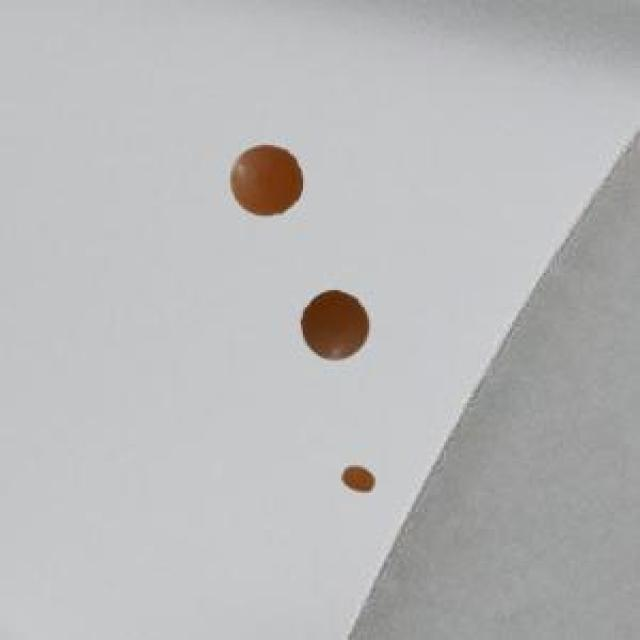Bactidol: (225, 134, 313, 233), (291, 278, 378, 366), (335, 446, 380, 513)
